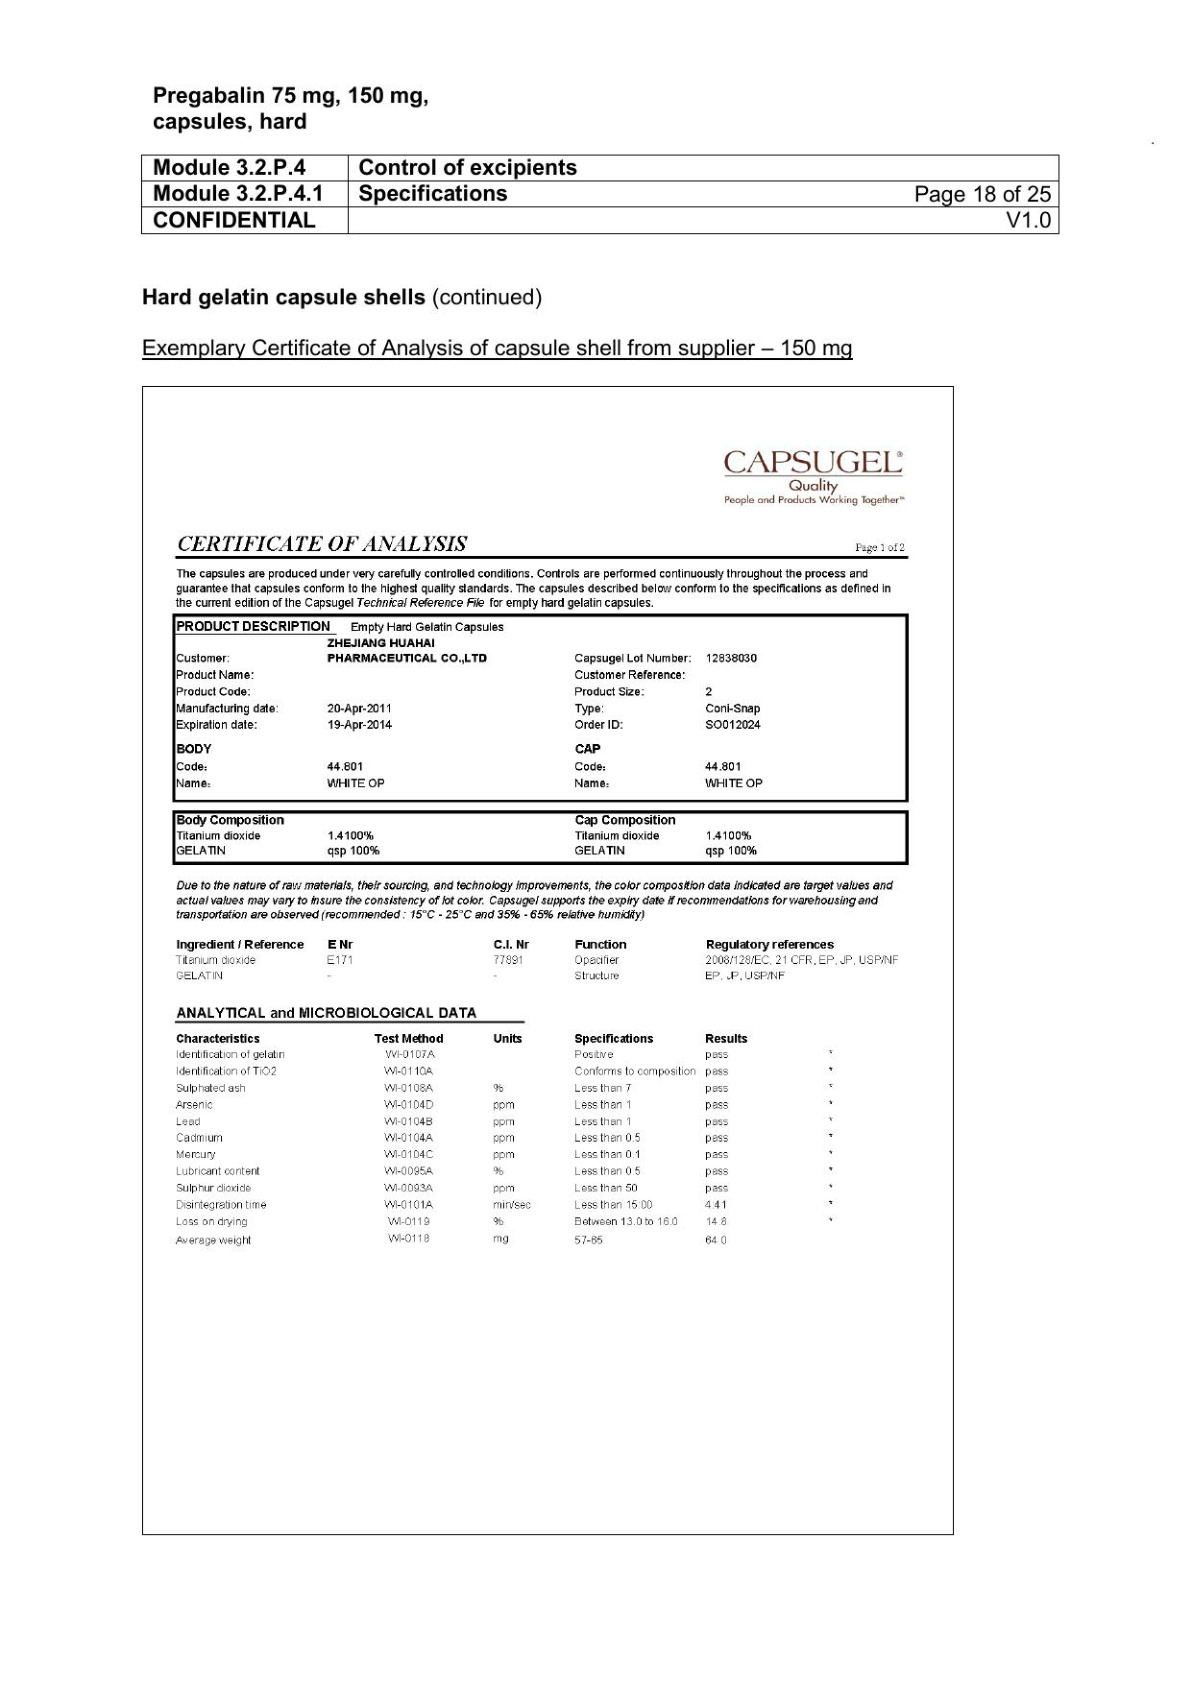full_lined: (139, 154, 1060, 236)
nolines: (172, 1030, 756, 1249), (172, 935, 900, 988)
partial_lined: (172, 613, 909, 803), (172, 810, 909, 864)
